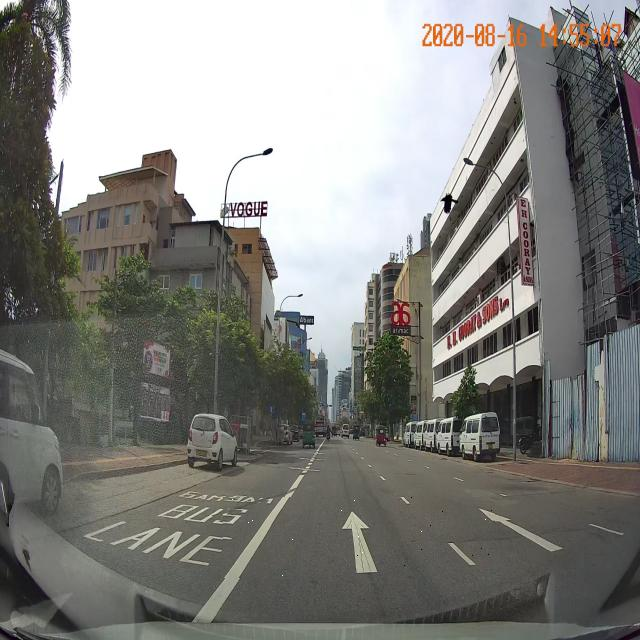forward: (224, 498, 495, 578)
